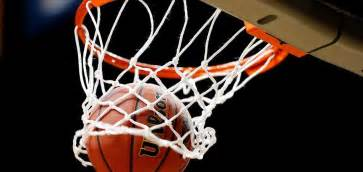basketball: (85, 83, 197, 172)
